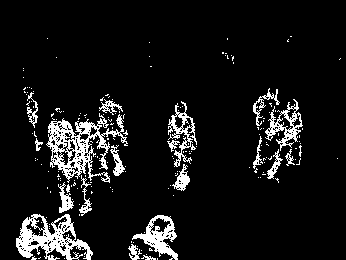person: (70, 118, 102, 219), (167, 99, 198, 194), (46, 110, 74, 212), (270, 98, 303, 182), (253, 87, 282, 173), (99, 92, 129, 175), (129, 212, 179, 260), (21, 86, 44, 151)
